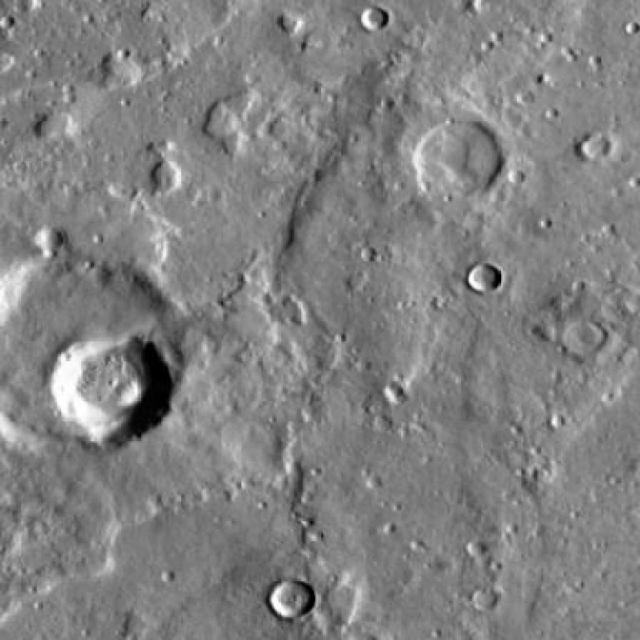crater: (0, 264, 185, 468), (48, 340, 175, 451), (412, 129, 503, 208), (268, 579, 315, 621), (560, 327, 602, 364), (584, 136, 614, 164), (468, 264, 498, 290), (471, 592, 495, 614), (362, 11, 386, 31), (465, 548, 486, 566)
